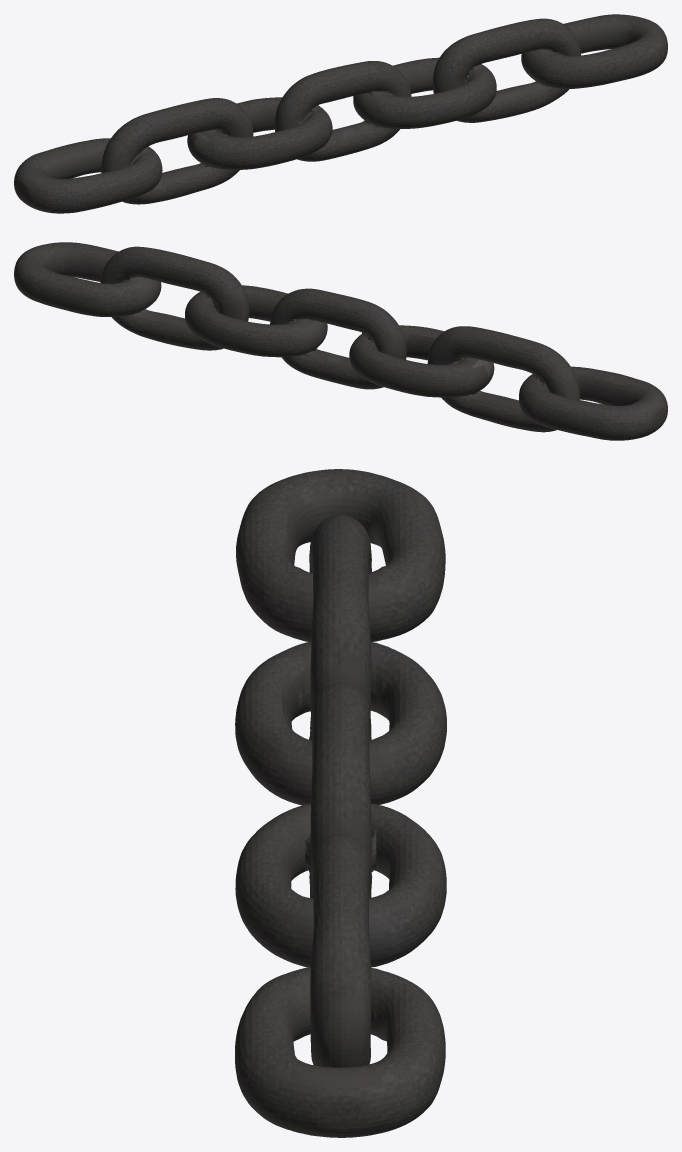
The picture shows the model from 3 angles, top to bottom: view 1: azimuth 30°, elevation 25°; view 2: azimuth 150°, elevation 25°; view 3: azimuth 270°, elevation 25°; orthographic projection. The views are drawn at different scales.
Visible parts, largest first — view 1: Hy21_Mesh.obj; view 2: Hy21_Mesh.obj; view 3: Hy21_Mesh.obj.
Boxes of the visible parts, x1,y1,x2,y2 form: Hy21_Mesh.obj: (14,14,667,213); Hy21_Mesh.obj: (14,242,667,440); Hy21_Mesh.obj: (235,469,446,1137).
Bounding box in the file's own units: 1.96 × 0.2605 × 0.2815.
Materials: 1 (1 with a texture image).
